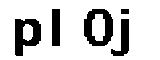0: (84, 7, 113, 47)
j: (112, 6, 137, 60)
l: (47, 6, 75, 55)
p: (12, 15, 43, 59)
